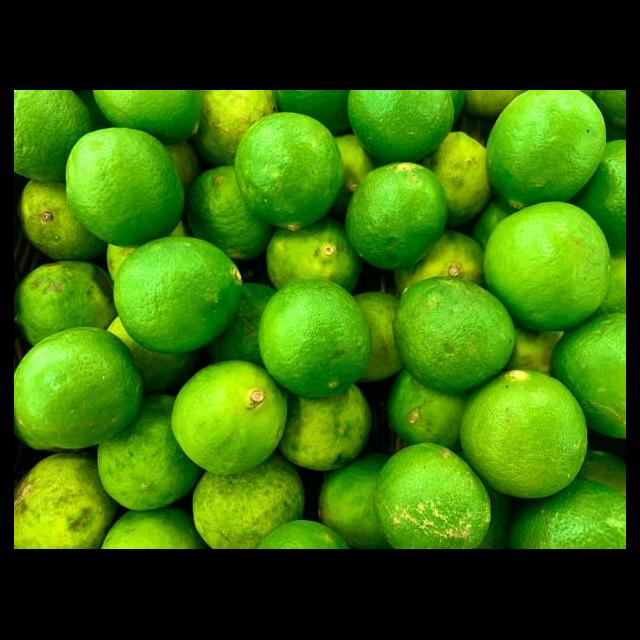lime: (458, 370, 589, 500), (113, 236, 244, 356), (485, 90, 608, 210), (374, 444, 494, 550)
